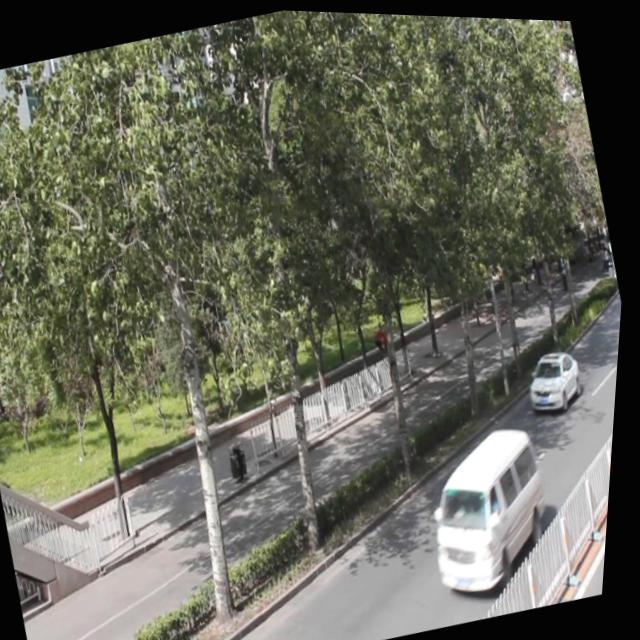car: (524, 339, 591, 412), (617, 310, 625, 364)
truck: (417, 418, 570, 595)
